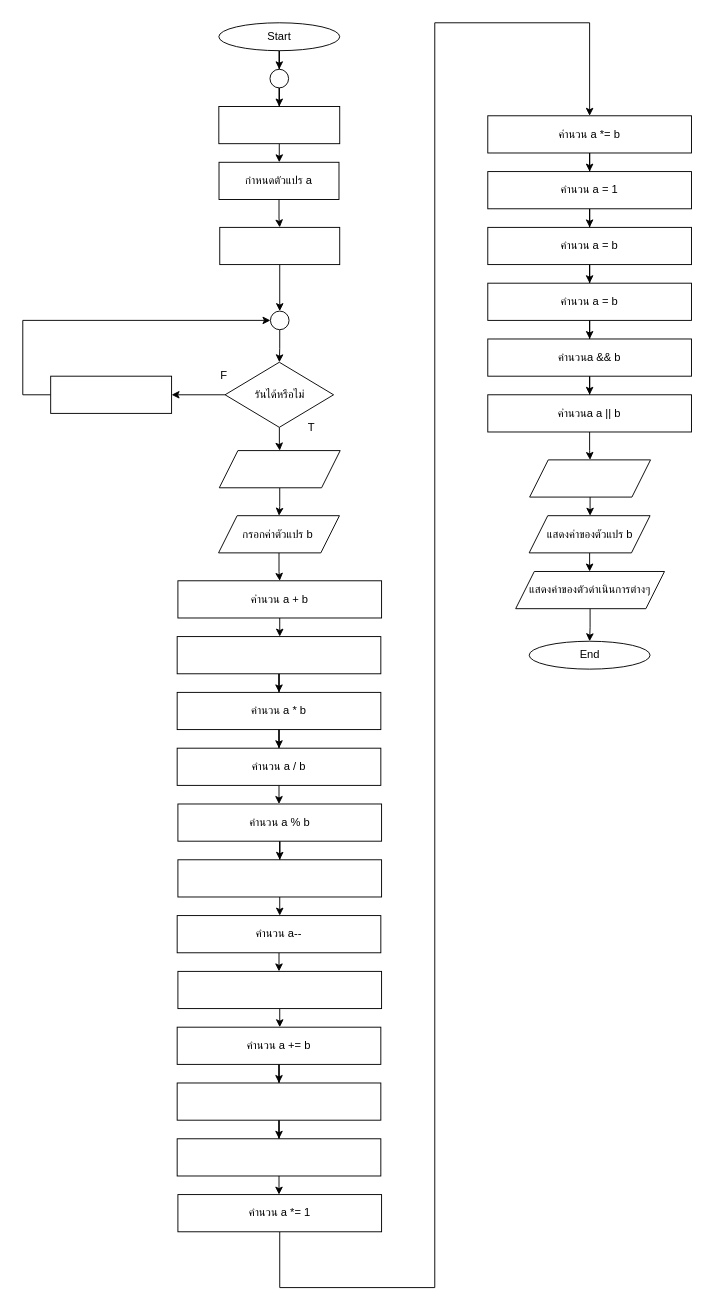
Image size: 708x1311. Some labels were removed from this diagram. The shapes that lost their labels are listed below. From the top down, each one's centre as x and y in pixels, then its label:
point (279, 125): เติมตัวดำเนินการ
point (279, 245): กำหนดตัวแปร b
point (111, 394): แก้ให้รันได้
point (279, 469): กรอกค่าตัวแปร a
point (590, 478): แสดงค่าของตัวแปร a
point (278, 655): คำนวน a - b
point (279, 878): คำนวน ++a
point (279, 989): คำนวน a += 1
point (278, 1101): คำนวน a -= 1
point (278, 1157): คำนวน a -= b
